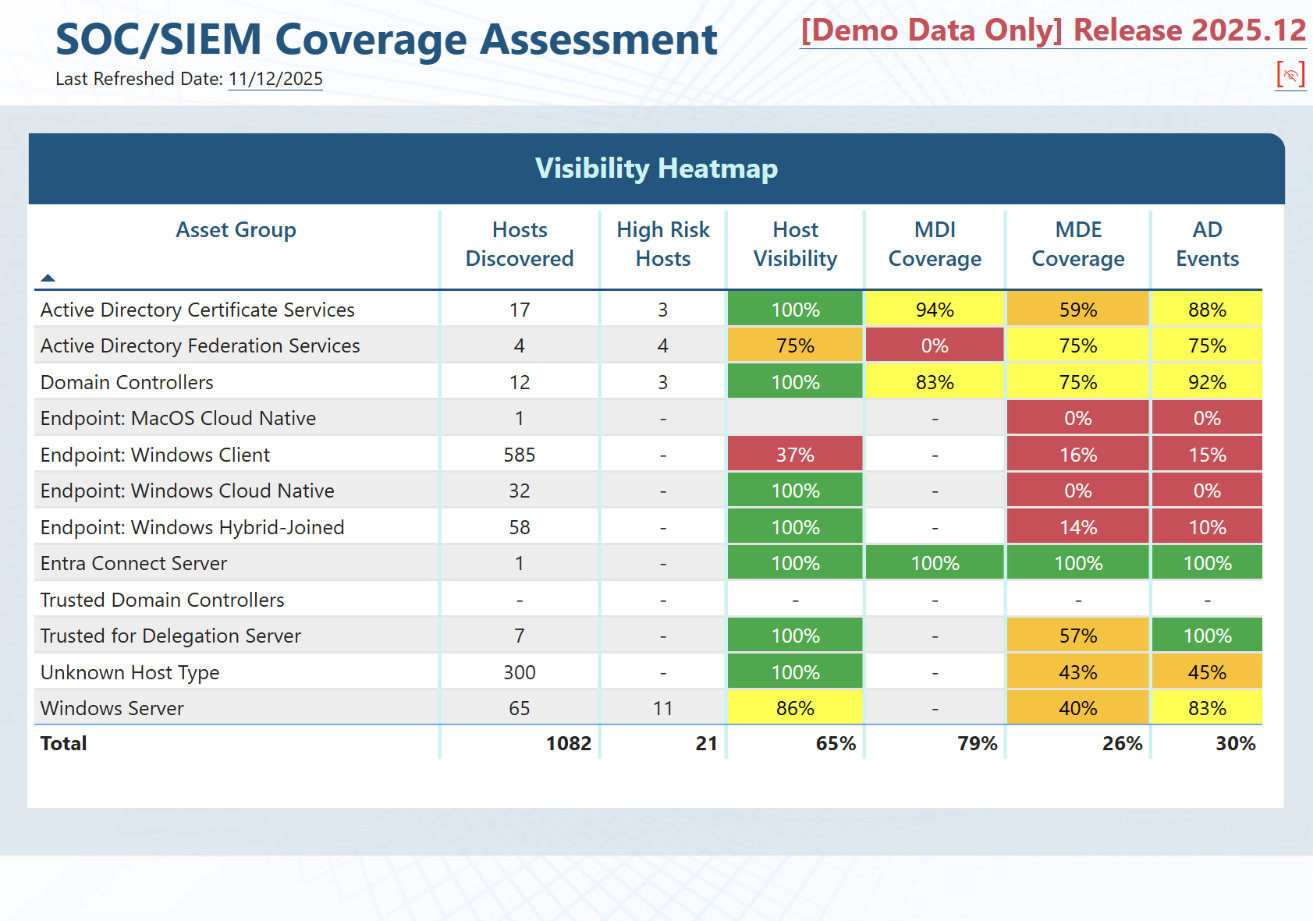

Layout of this report page (visuals, bound fields, positions):
{"tool":"powerbi","page":{"name":"Visibility","canvas":[1123,794],"ordinal":2},"visuals":[{"type":"textbox","box":[0,0,1123,90],"z":0},{"type":"shape","box":[25,176.7,1073.3,515],"z":1000},{"type":"shape","box":[24.5,115.2,1074.4,60.7],"z":2000},{"type":"textbox","box":[24.5,115.2,1074.4,60.7],"z":3000},{"type":"tableEx","fields":{"Values":["SCHEMA_AssetGroups.Description","View-Hosts.Visibility Hosts Discovered","View-Hosts.Visibility SIEM Missing HostCount","View-Hosts.Visibility SIEM Percentage","View-Hosts.Visibility MDI Percentage","View-Hosts.Visibility MDE Percentage","View-Hosts.Visibility AD Events Percentage"]},"box":[24.5,176.4,1072.7,516],"z":4000},{"type":"textbox","box":[649.2,0,473.8,90],"z":5000}]}

Visuals, with their boxes in screenshot pixels (x1, y1, x2, y2), scaled from the page's 1123x794 canvas onto the 1313x921 screenshot:
textbox: 0,0,1312,104
shape: 29,205,1284,802
shape: 29,134,1285,204
textbox: 29,134,1285,204
tableEx - SCHEMA_AssetGroups.Description x View-Hosts.Visibility Hosts Discovered: 29,205,1283,803
textbox: 759,0,1312,104
